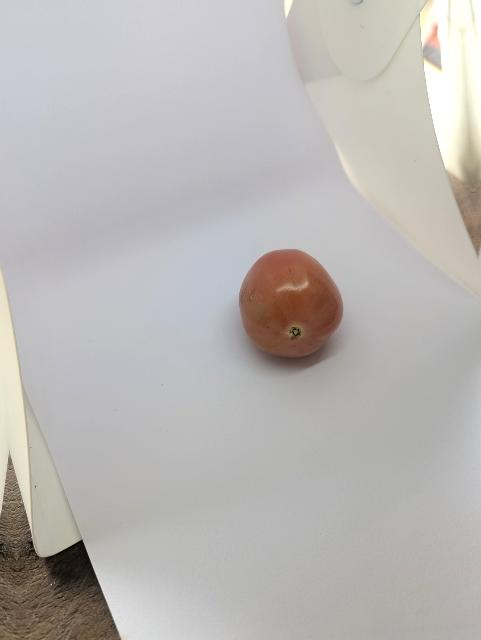red: (228, 242, 350, 362)
